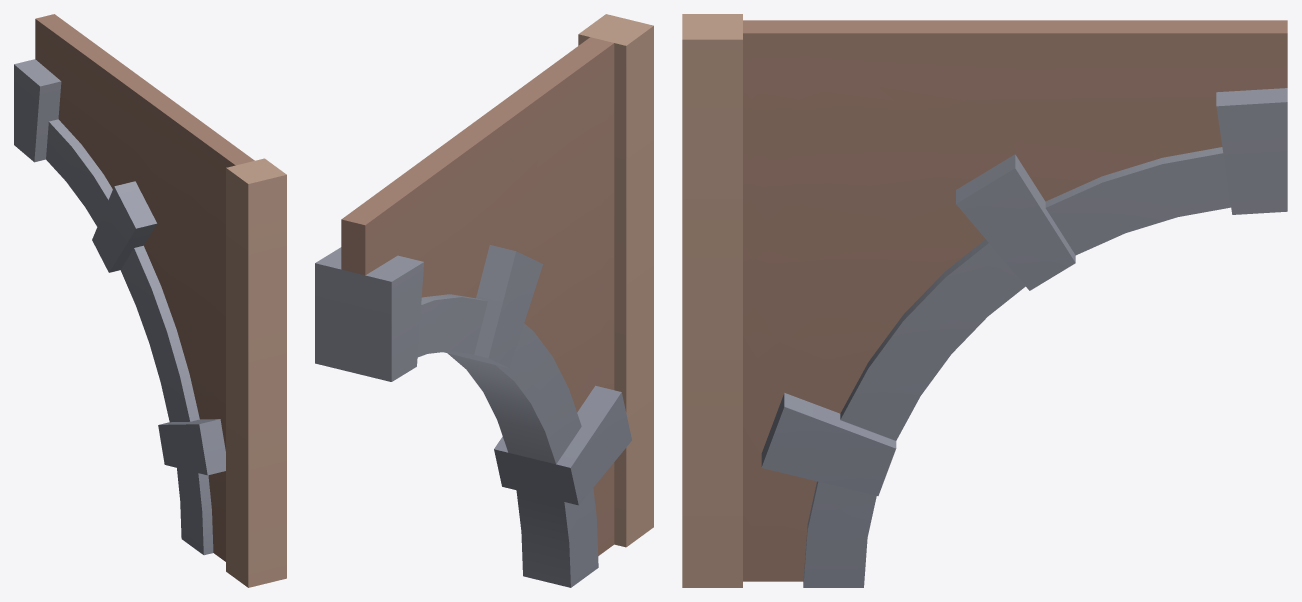
The model's file is wall-wood-arch-top-detail.glb.
3 views of the same model, side by side, from view 1: azimuth 30°, elevation 25°; view 2: azimuth 150°, elevation 25°; view 3: azimuth 270°, elevation 25° (orthographic). The views are drawn at different scales.
Parts seen in each view (by area): view 1: wall-wood-arch-top-detail; view 2: wall-wood-arch-top-detail; view 3: wall-wood-arch-top-detail.
Part boxes in pixels (box(x1,y1,x2,y2)): wall-wood-arch-top-detail: box(14, 14, 286, 587); wall-wood-arch-top-detail: box(315, 14, 653, 587); wall-wood-arch-top-detail: box(682, 14, 1287, 587).
Size of the model in its own units: 0.16 by 1 by 1.
